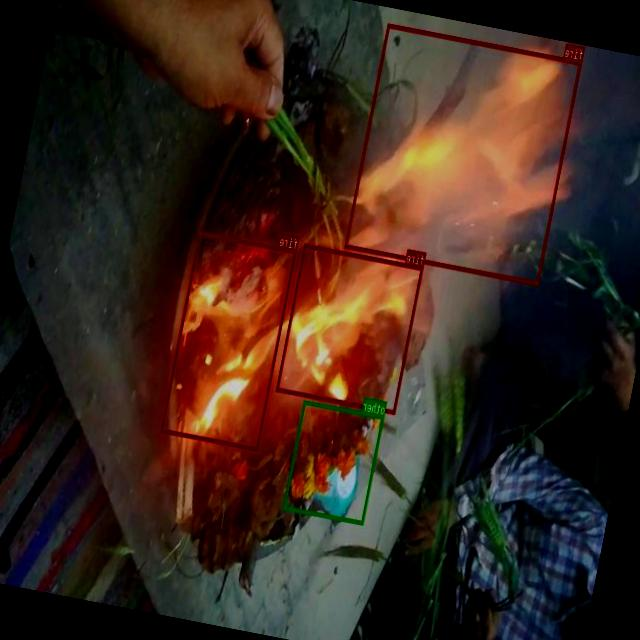fire: (345, 22, 583, 286), (162, 231, 298, 450), (276, 244, 424, 414)
